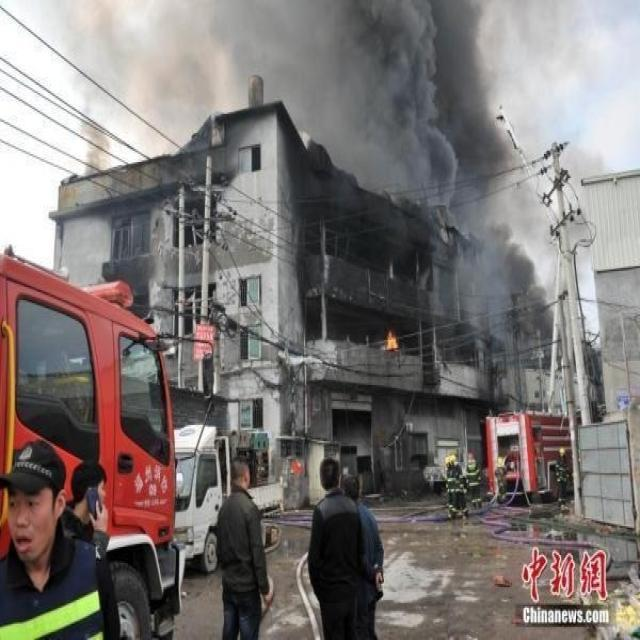Fire: (384, 332, 398, 350)
Smoke: (56, 1, 605, 338)
